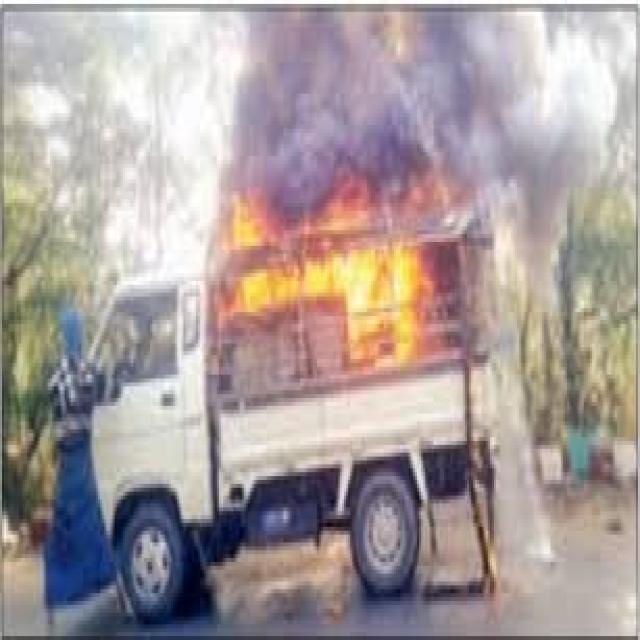Fire: (228, 196, 432, 364)
Smoke: (217, 7, 640, 198)
